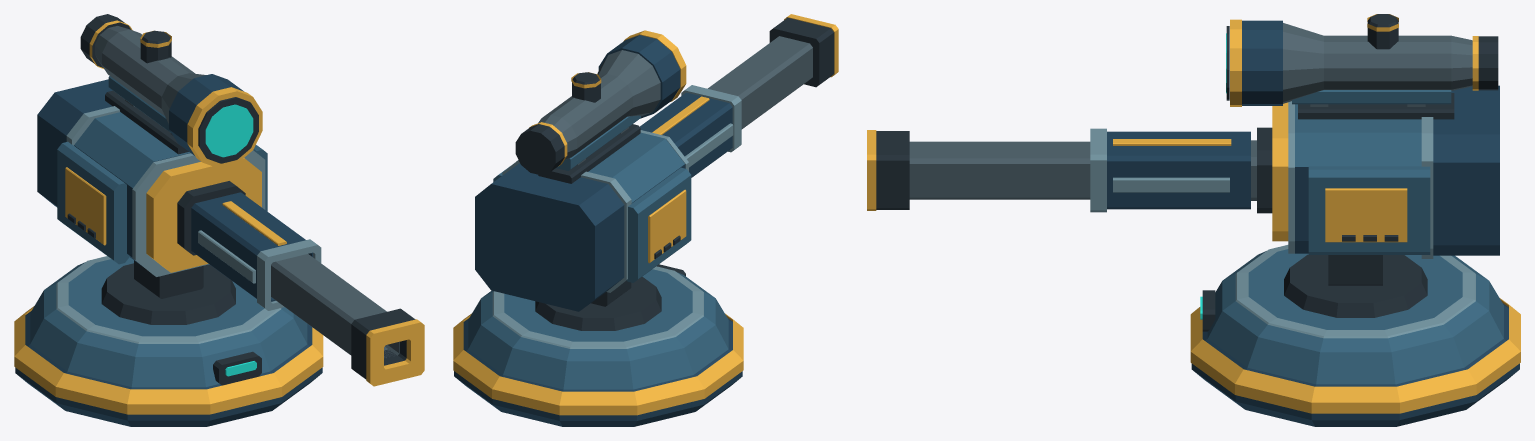
The model's file is PrecisionLevel3.obj.
3 views of the same model, side by side, from view 1: azimuth 30°, elevation 25°; view 2: azimuth 150°, elevation 25°; view 3: azimuth 270°, elevation 25° (orthographic). The views are drawn at different scales.
Visible parts, largest first — view 1: UpperPlinth, GoldBelt, SquareBarrel, GoldMantlet, Turntable, BarrelShroud, Foundation, ScopeBody, UpperArmor, SideArmor-1, RearCasing, MuzzleLip (+20 smaller); view 2: RearCasing, UpperPlinth, GoldBelt, ScopeBody, SquareBarrel, Foundation, Turntable, UpperArmor, BarrelShroud, SideArmor-1, TopRim, MuzzleBrake (+13 smaller); view 3: UpperPlinth, SquareBarrel, RearCasing, ScopeBody, GoldBelt, BarrelShroud, SideArmor1, Turntable, UpperArmor, Foundation, SideArmorGold1, TopRim (+17 smaller).
Part boxes in pixels (x1,y1,x2,y2): UpperPlinth: [30, 257, 307, 387]; GoldBelt: [14, 306, 323, 414]; SquareBarrel: [271, 254, 399, 357]; GoldMantlet: [146, 158, 261, 272]; Turntable: [101, 263, 235, 324]; BarrelShroud: [191, 192, 312, 301]; Foundation: [15, 311, 322, 426]; ScopeBody: [95, 26, 206, 124]; UpperArmor: [74, 112, 190, 187]; SideArmor-1: [57, 141, 129, 264]; RearCasing: [37, 79, 112, 207]; MuzzleLip: [366, 319, 424, 386]; RearCasing: [475, 163, 624, 311]; UpperPlinth: [468, 269, 728, 389]; GoldBelt: [453, 313, 743, 415]; ScopeBody: [538, 50, 660, 159]; SquareBarrel: [708, 36, 812, 129]; Foundation: [454, 318, 742, 426]; Turntable: [535, 276, 661, 330]; UpperArmor: [588, 132, 684, 202]; BarrelShroud: [640, 92, 732, 177]; SideArmor-1: [626, 167, 691, 282]; TopRim: [492, 266, 703, 348]; MuzzleBrake: [769, 17, 834, 87]; UpperPlinth: [1207, 249, 1503, 384]; SquareBarrel: [909, 141, 1090, 199]; RearCasing: [1433, 85, 1499, 255]; ScopeBody: [1283, 23, 1472, 103]; GoldBelt: [1190, 298, 1520, 413]; BarrelShroud: [1107, 131, 1250, 209]; SideArmor1: [1308, 166, 1430, 254]; Turntable: [1284, 254, 1427, 317]; UpperArmor: [1295, 104, 1421, 166]; Foundation: [1191, 303, 1519, 426]; SideArmorGold1: [1325, 188, 1407, 242]; TopRim: [1235, 245, 1475, 338].
Size of the model in its own units: 2.18 by 2.5 by 4.31.
